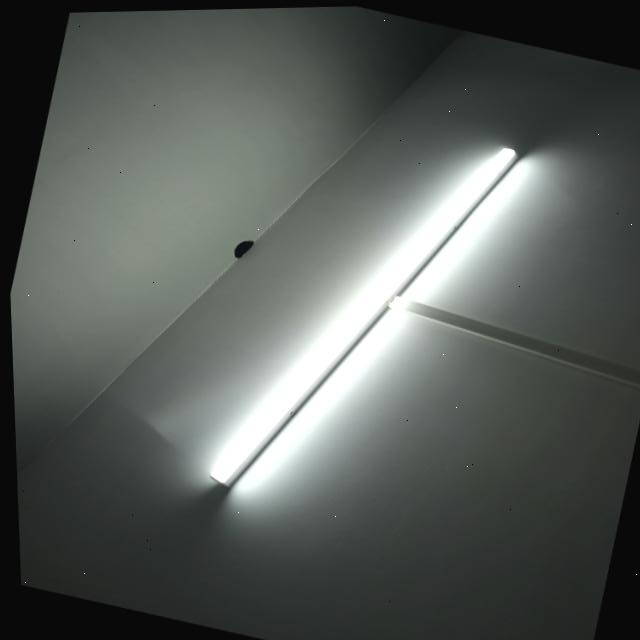fluorescent tube: (182, 84, 542, 554)
